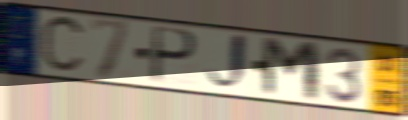3: (323, 46, 364, 105)
7: (90, 15, 134, 83)
C: (38, 12, 88, 77)
J: (204, 30, 251, 95)
M: (260, 35, 323, 105)
P: (148, 24, 200, 87)
